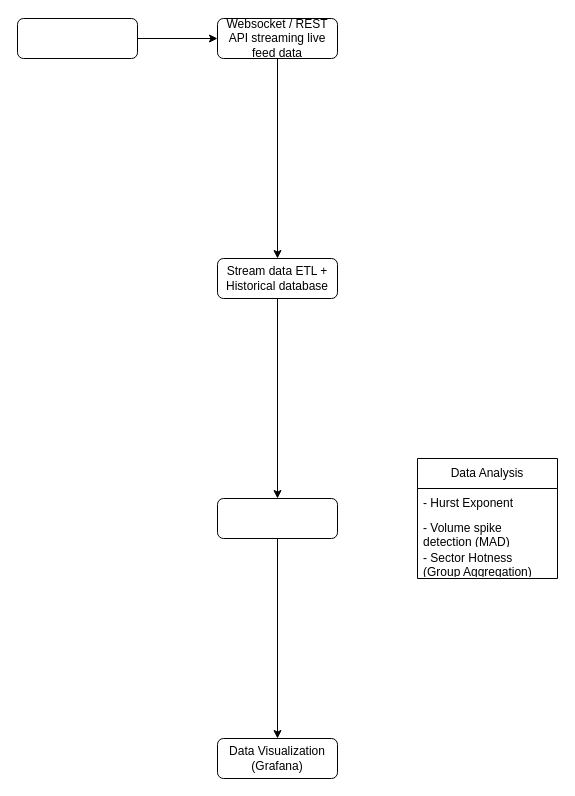
Image size: 575x796. Some labels were removed from this diagram. The shapes that lost their labels are listed below. From the top down, each one's centre as x and y in pixels, then its label:
At (77,38): "Coinbase API".
At (277,518): "Data Analysis (Price trends + sector rotation)".
